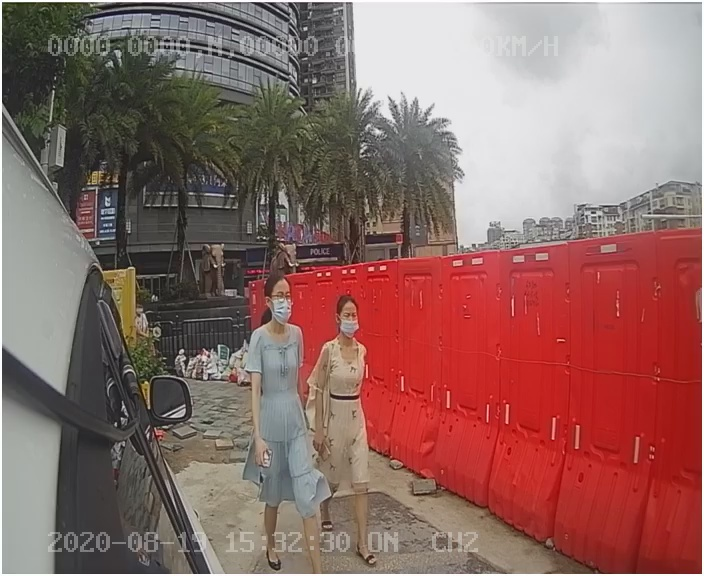person: (309, 295, 415, 564)
